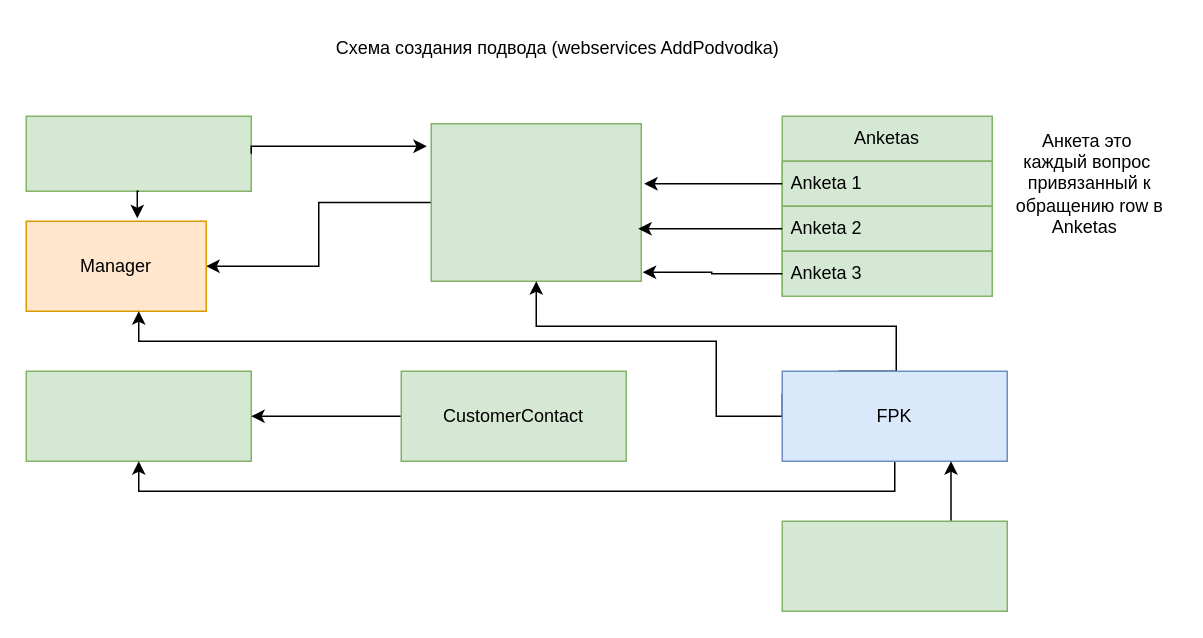
This 1203x638 diagram has some shape labels left out. The centre of each missing label's shape, as x and y in pixels:
"CallEvent" belongs at (138,153).
"Customer" belongs at (138,415).
"FPK_Logs" belongs at (894,565).
"Обращение IncomeCall" belongs at (535,201).
